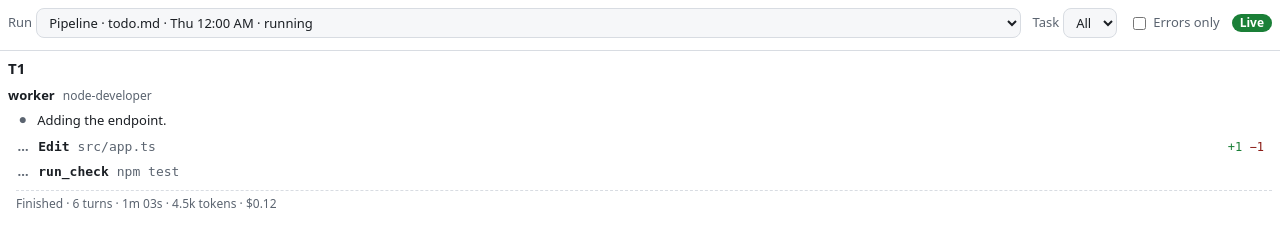
Scenario: TraceView › says when nothing matches the filters
Click the checkbox labelled "Errors only" at [1140, 23], box left=1133, top=16, right=1146, bottom=30
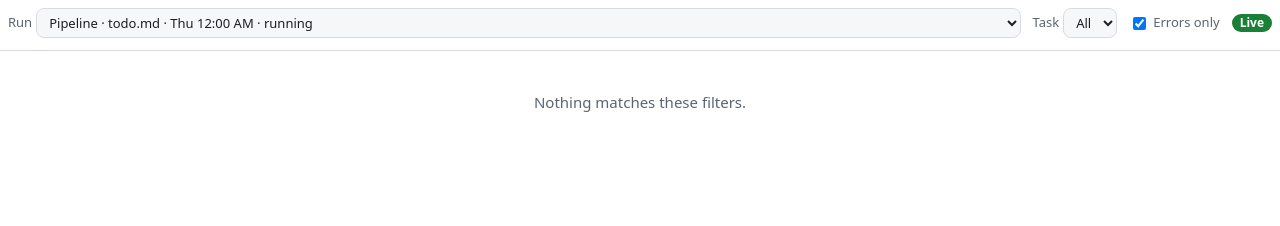
Now the text "Nothing matches these filters." is shown, box left=534, top=92, right=746, bottom=112
